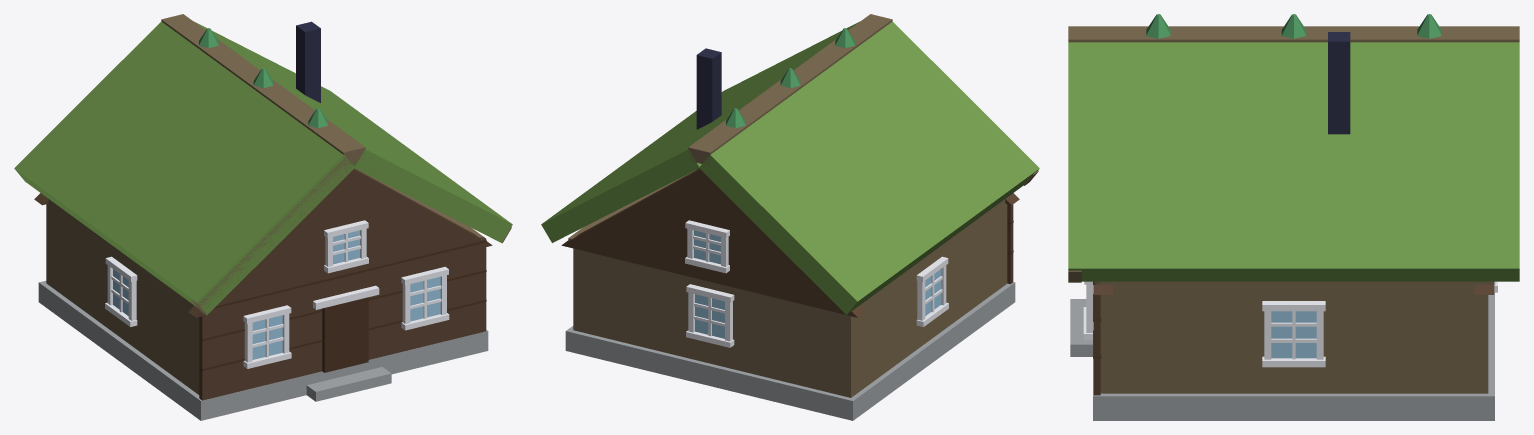
File: house-1x1-1f-turf-a.glb
The picture shows the model from 3 angles, left to right: view 1: azimuth 30°, elevation 25°; view 2: azimuth 150°, elevation 25°; view 3: azimuth 270°, elevation 25°; orthographic projection. The views are drawn at different scales.
Parts seen in each view (by area): view 1: house-1x1-1f-turf-a; view 2: house-1x1-1f-turf-a; view 3: house-1x1-1f-turf-a.
Part boxes in pixels (<box>): house-1x1-1f-turf-a: <box>14,14,512,420</box>; house-1x1-1f-turf-a: <box>541,14,1039,420</box>; house-1x1-1f-turf-a: <box>1068,14,1519,420</box>.
Size of the model in its own units: 1 by 0.82 by 1.
Materials: 1 (1 with a texture image).
